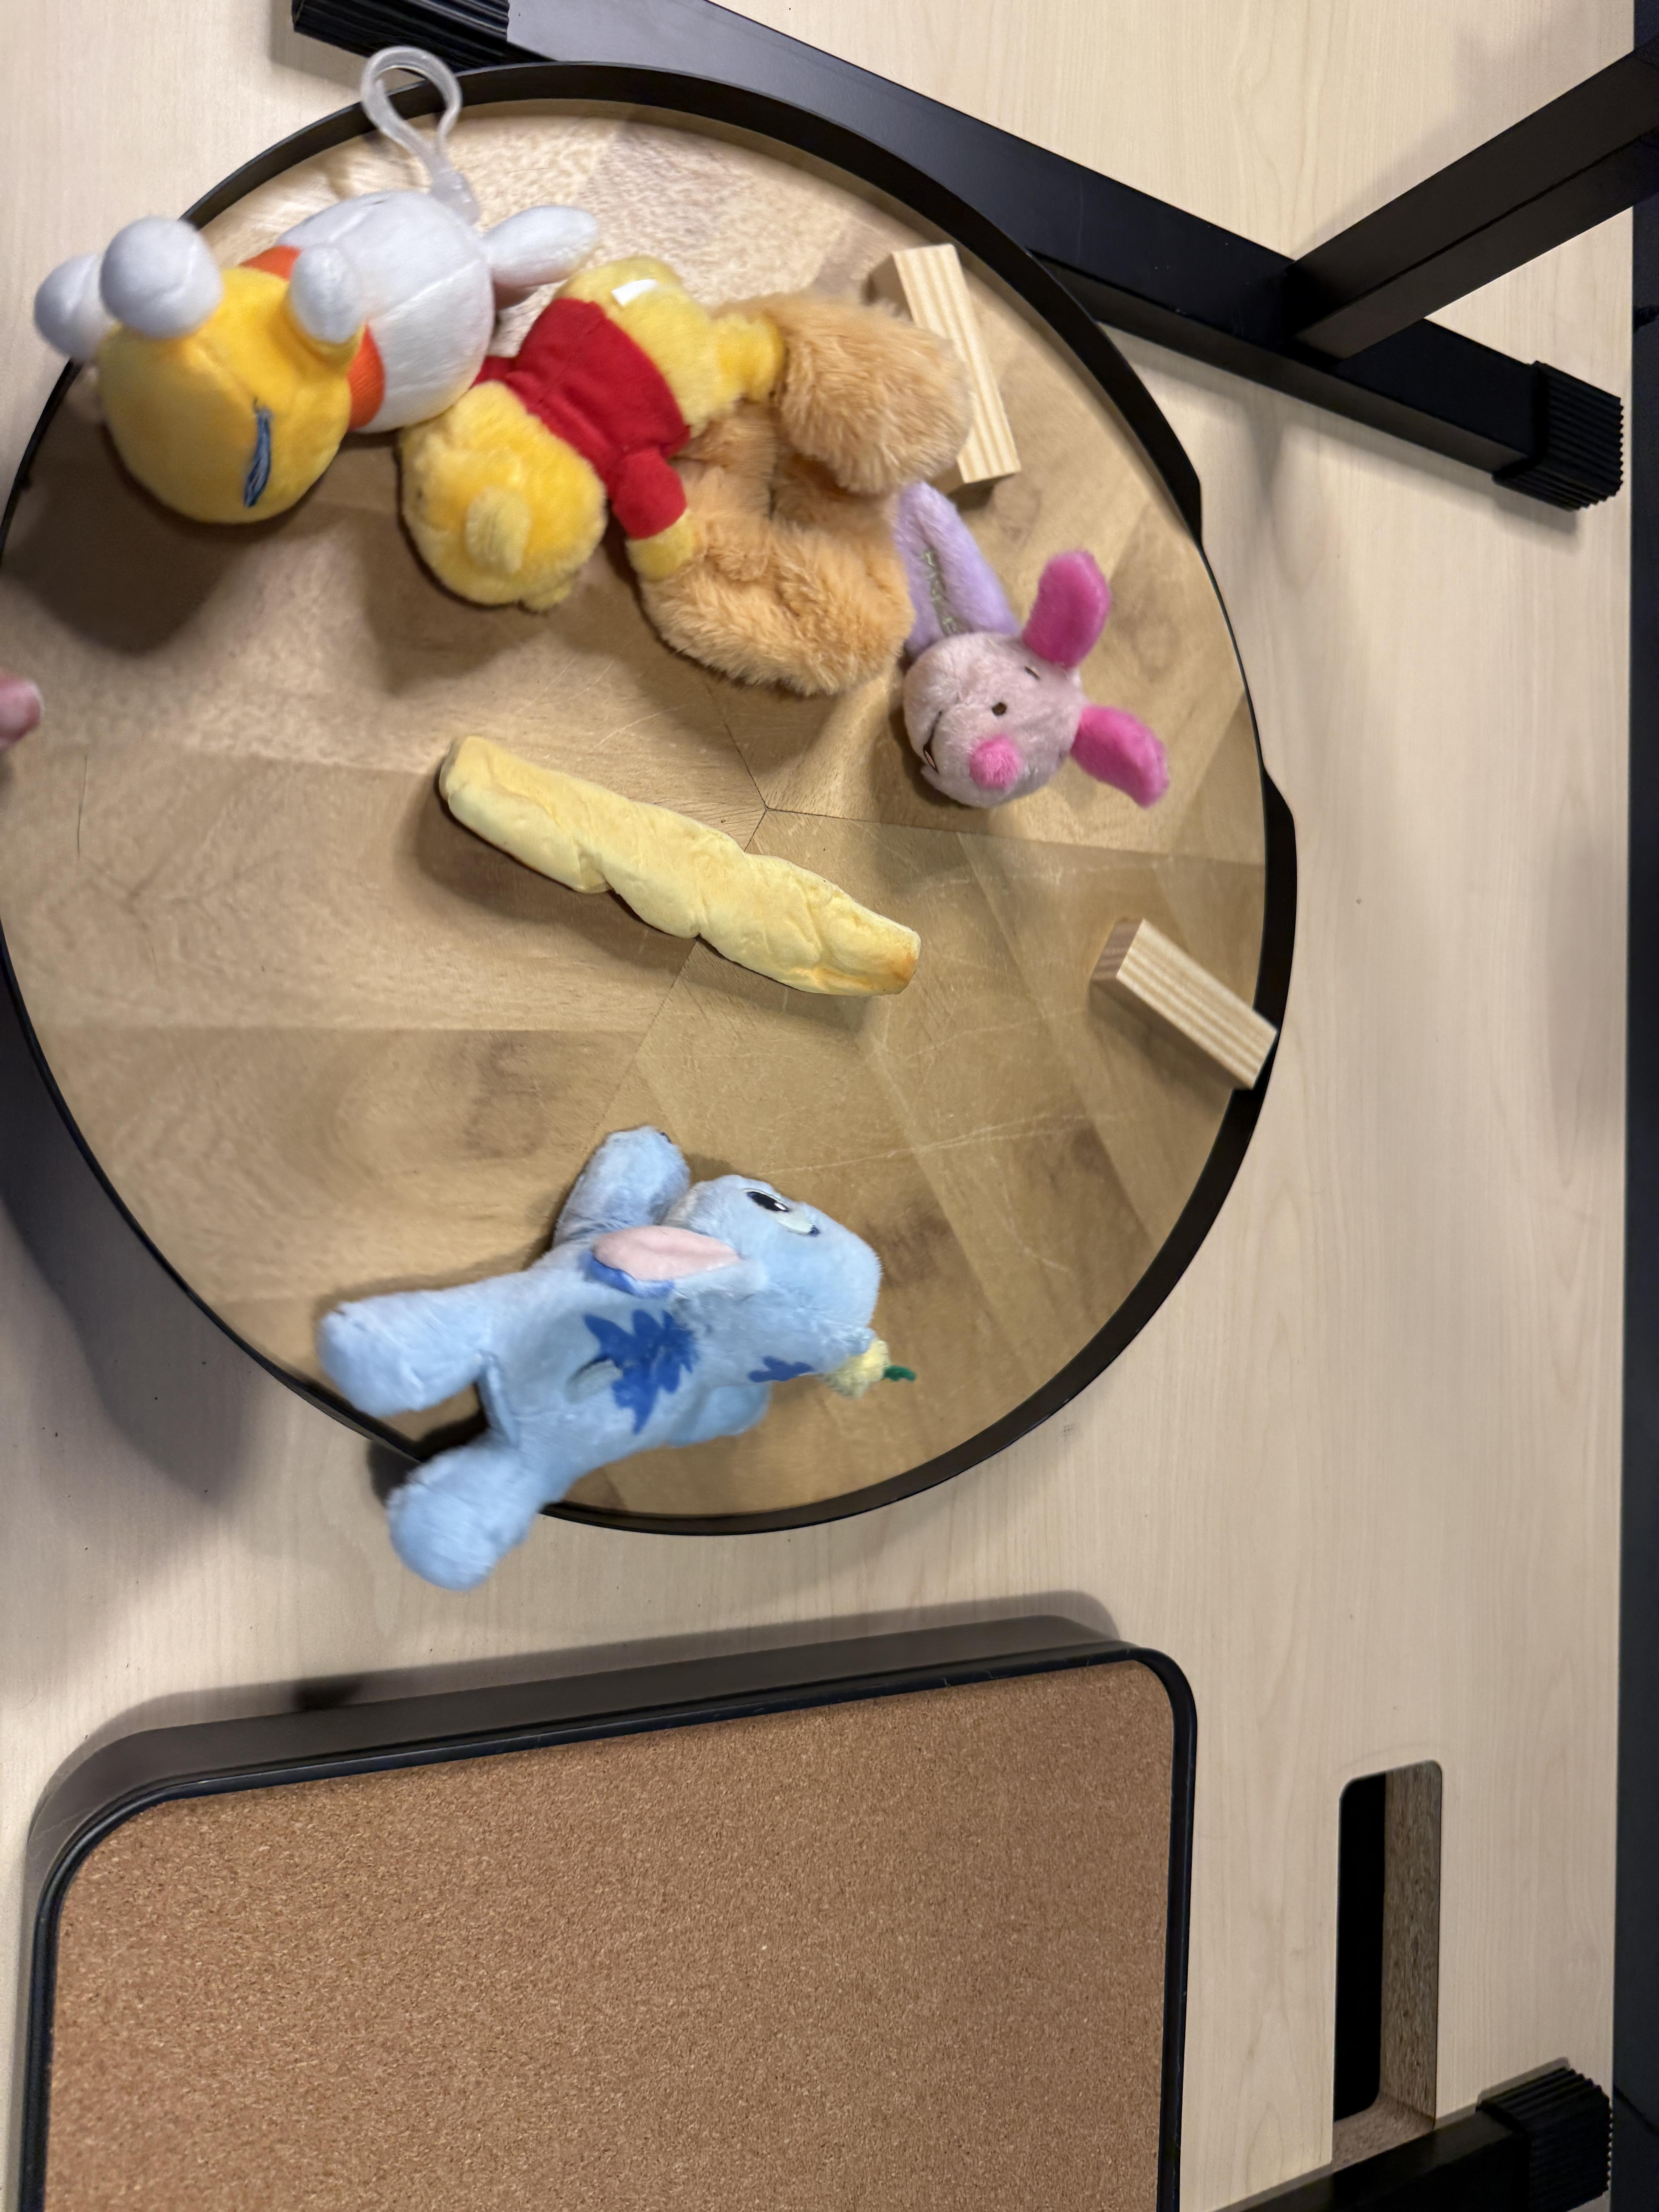block: (1087, 909, 1279, 1092), (887, 240, 1026, 488)
bread: (446, 732, 922, 982)
doll: (333, 1127, 910, 1583), (406, 256, 974, 691), (28, 186, 605, 526), (894, 491, 1182, 815)
